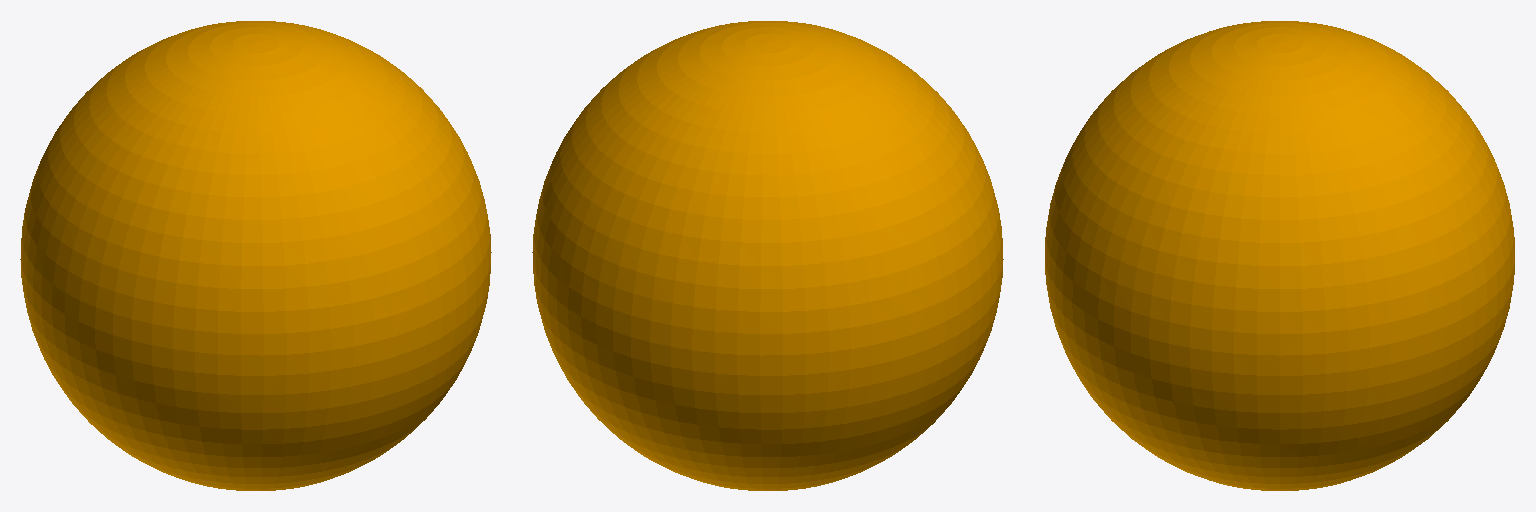
URDF robot description (ball_bearing):
<?xml version="1.0" ?>
<robot name="ball_bearing">
  <link name="base_link">
    <inertial>
      <origin xyz="0 0 0.003" rpy="0 0 0"/>
      <mass value="0.0011"/>
      <inertia ixx="6.6e-09" ixy="0" ixz="0" iyy="6.6e-09" iyz="0" izz="6.6e-09"/>
    </inertial>
    <visual name="visual">
      <origin xyz="0 0 0" rpy="0 0 0"/>
      <geometry>
        <mesh filename="meshes/visual.obj" scale="1 1 1"/>
      </geometry>
    </visual>
    <collision name="sphere">
      <origin xyz="0 0 0" rpy="0 0 0"/>
      <geometry>
        <mesh filename="meshes/collision/sphere.obj" scale="1 1 1"/>
      </geometry>
    </collision>
  </link>
</robot>

--- What the picture shows (computed from the rendered views, not written in the file) ---
Views: 3 orthographic renders of the robot side by side, from view 1: azimuth 30°, elevation 25°; view 2: azimuth 150°, elevation 25°; view 3: azimuth 270°, elevation 25°.
Robot: ball_bearing — 1 links, 0 joints (none); root link base_link; default pose: every joint at zero.
Links seen in each view (by area): view 1: base_link; view 2: base_link; view 3: base_link.
Link boxes in pixels (box(x1,y1,x2,y2)): base_link: box(20, 21, 491, 490); base_link: box(532, 21, 1003, 490); base_link: box(1045, 21, 1514, 490).
Bounding box of the posed robot: 0.006 × 0.006 × 0.006 m (x, y, z).
Meshes: 1 distinct files referenced, 1 mesh visuals loaded (1 OBJ).
